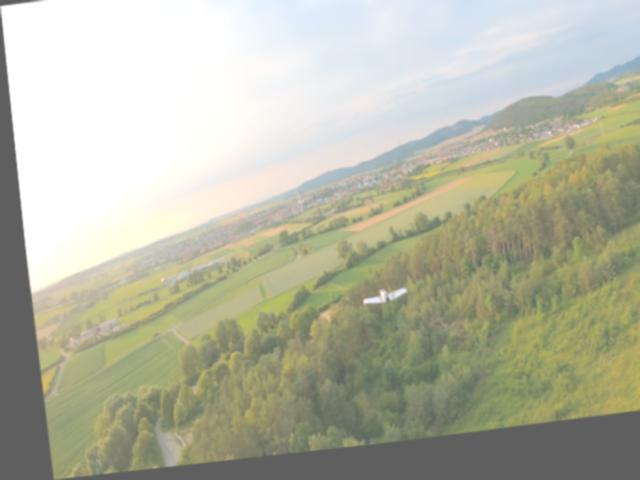plane: (355, 292, 400, 313)
